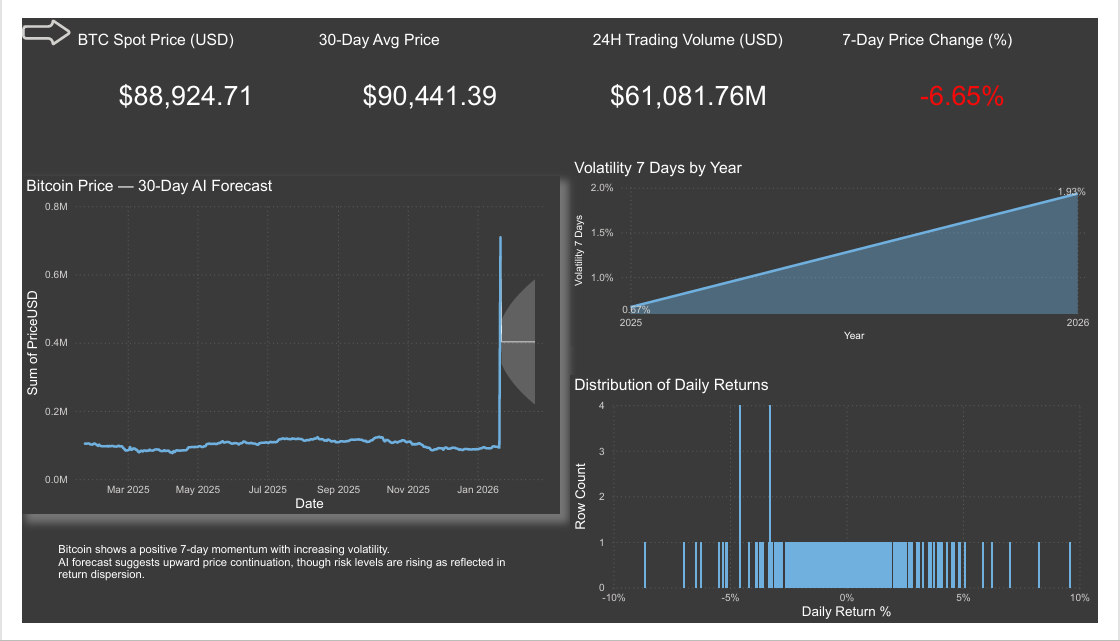

Layout of this report page (visuals, bound fields, positions):
{"tool":"powerbi","page":{"name":"Bitcoin Price Forecast & Risk Analysis","canvas":[1280,720],"ordinal":0},"visuals":[{"type":"lineChart","title":"Bitcoin Price — 30-Day AI Forecast","fields":{"Y":["Sum(Bitcoin_Analytics.PriceUSD)"],"Category":["Bitcoin_Analytics.Date"]},"box":[0,188.6,640,402.9],"z":0},{"type":"lineChart","fields":{"Category":["Bitcoin_Analytics.Date.Variation.Date Hierarchy.Year","Bitcoin_Analytics.Date.Variation.Date Hierarchy.Quarter","Bitcoin_Analytics.Date.Variation.Date Hierarchy.Month","Bitcoin_Analytics.Date.Variation.Date Hierarchy.Day"],"Y":["Bitcoin_Analytics.Volatility 7 Days"]},"box":[651.7,166.7,623.3,223.3],"z":1000},{"type":"columnChart","title":"Distribution of Daily Returns","fields":{"Category":["Bitcoin_Analytics.Daily Return %"],"Y":["Bitcoin_Analytics.Row Count"]},"box":[652,426,624,294],"z":2000},{"type":"card","title":"BTC Spot Price (USD)","fields":{"Values":["Bitcoin_Analytics.Latest Price USD"]},"box":[60.6,14.8,268.8,131],"z":3000},{"type":"card","title":"30-Day Avg Price","fields":{"Values":["Bitcoin_Analytics.MA 30 Days"]},"box":[347.9,14.8,273.8,131],"z":4000},{"type":"card","title":"24H Trading Volume (USD)","fields":{"Values":["Bitcoin_Analytics.Latest Volume USD"]},"box":[673.8,14.8,238.5,131],"z":5000},{"type":"card","title":"7-Day Price Change (%)","fields":{"Values":["Bitcoin_Analytics.Price Change % (7D)"]},"box":[971.1,14.8,295.6,132.7],"z":6000},{"type":"textbox","box":[38,620,562,74],"z":7000},{"type":"actionButton","box":[0,0,60,34.2],"z":8000}]}

Visuals, with their boxes in screenshot pixels (x1, y1, x2, y2), scaled from the page's 1280x720 canvas onto the 1120x641 screenshot:
"Bitcoin Price — 30-Day AI Forecast" lineChart: box(0, 168, 560, 527)
lineChart - Bitcoin_Analytics.Date.Variation.Date Hierarchy.Year x Bitcoin_Analytics.Date.Variation.Date Hierarchy.Quarter: box(570, 148, 1116, 347)
"Distribution of Daily Returns" columnChart: box(570, 379, 1116, 640)
"BTC Spot Price (USD)" card: box(53, 13, 288, 130)
"30-Day Avg Price" card: box(304, 13, 544, 130)
"24H Trading Volume (USD)" card: box(590, 13, 798, 130)
"7-Day Price Change (%)" card: box(850, 13, 1108, 131)
textbox: box(33, 552, 525, 618)
actionButton: box(0, 0, 52, 30)
